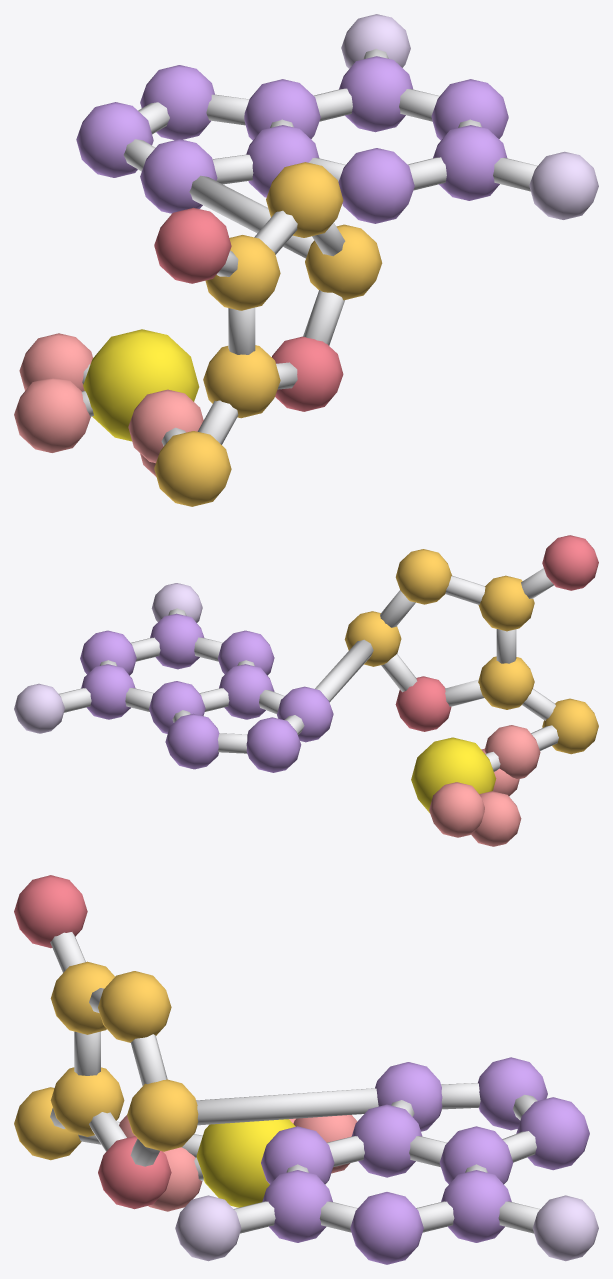
Rendered from Nucleotide_Guanine.glb.
3 renders of one model, top to bottom at view 1: azimuth 30°, elevation 25°; view 2: azimuth 150°, elevation 25°; view 3: azimuth 270°, elevation 25°, orthographic. The views are drawn at different scales.
Parts seen in each view (by area): view 1: Base_G_Ring, Sugar_Carbon, Base_G_Bonds, Phosphate_Oxygen, Sugar_Oxygen, Phosphate_Phosphorus, Sugar_Bonds, Base_G_Edge; view 2: Base_G_Ring, Sugar_Carbon, Phosphate_Oxygen, Base_G_Bonds, Sugar_Bonds, Sugar_Oxygen, Phosphate_Phosphorus, Base_G_Edge, Phosphate_Bonds; view 3: Base_G_Ring, Sugar_Carbon, Base_G_Bonds, Sugar_Oxygen, Base_G_Edge, Phosphate_Phosphorus, Sugar_Bonds, Phosphate_Oxygen, Phosphate_Bonds.
Boxes of the visible parts, left/top/right/bottom form: Base_G_Ring: left=76, top=56, right=508, bottom=223; Sugar_Carbon: left=154, top=162, right=382, bottom=506; Base_G_Bonds: left=123, top=49, right=537, bottom=258; Phosphate_Oxygen: left=14, top=333, right=203, bottom=476; Sugar_Oxygen: left=154, top=207, right=343, bottom=411; Phosphate_Phosphorus: left=83, top=329, right=199, bottom=441; Sugar_Bonds: left=197, top=210, right=345, bottom=444; Base_G_Edge: left=341, top=14, right=598, bottom=219; Base_G_Ring: left=80, top=613, right=333, bottom=772; Sugar_Carbon: left=344, top=549, right=598, bottom=754; Phosphate_Oxygen: left=429, top=725, right=540, bottom=846; Base_G_Bonds: left=59, top=608, right=373, bottom=753; Sugar_Bonds: left=380, top=568, right=555, bottom=720; Sugar_Oxygen: left=395, top=535, right=598, bottom=731; Phosphate_Phosphorus: left=411, top=737, right=496, bottom=812; Base_G_Edge: left=14, top=583, right=202, bottom=733; Phosphate_Bonds: left=485, top=725, right=558, bottom=771; Base_G_Ring: left=261, top=1057, right=589, bottom=1264; Sugar_Carbon: left=14, top=961, right=198, bottom=1160; Base_G_Bonds: left=196, top=1083, right=540, bottom=1233; Sugar_Oxygen: left=14, top=875, right=171, bottom=1209; Base_G_Edge: left=175, top=1195, right=598, bottom=1261; Phosphate_Phosphorus: left=196, top=1119, right=295, bottom=1207; Sugar_Bonds: left=50, top=932, right=167, bottom=1166; Phosphate_Oxygen: left=119, top=1115, right=357, bottom=1211; Phosphate_Bonds: left=78, top=1121, right=203, bottom=1180.
Bounding box in the file's own units: 0.0802 × 0.0463 × 0.0794.
